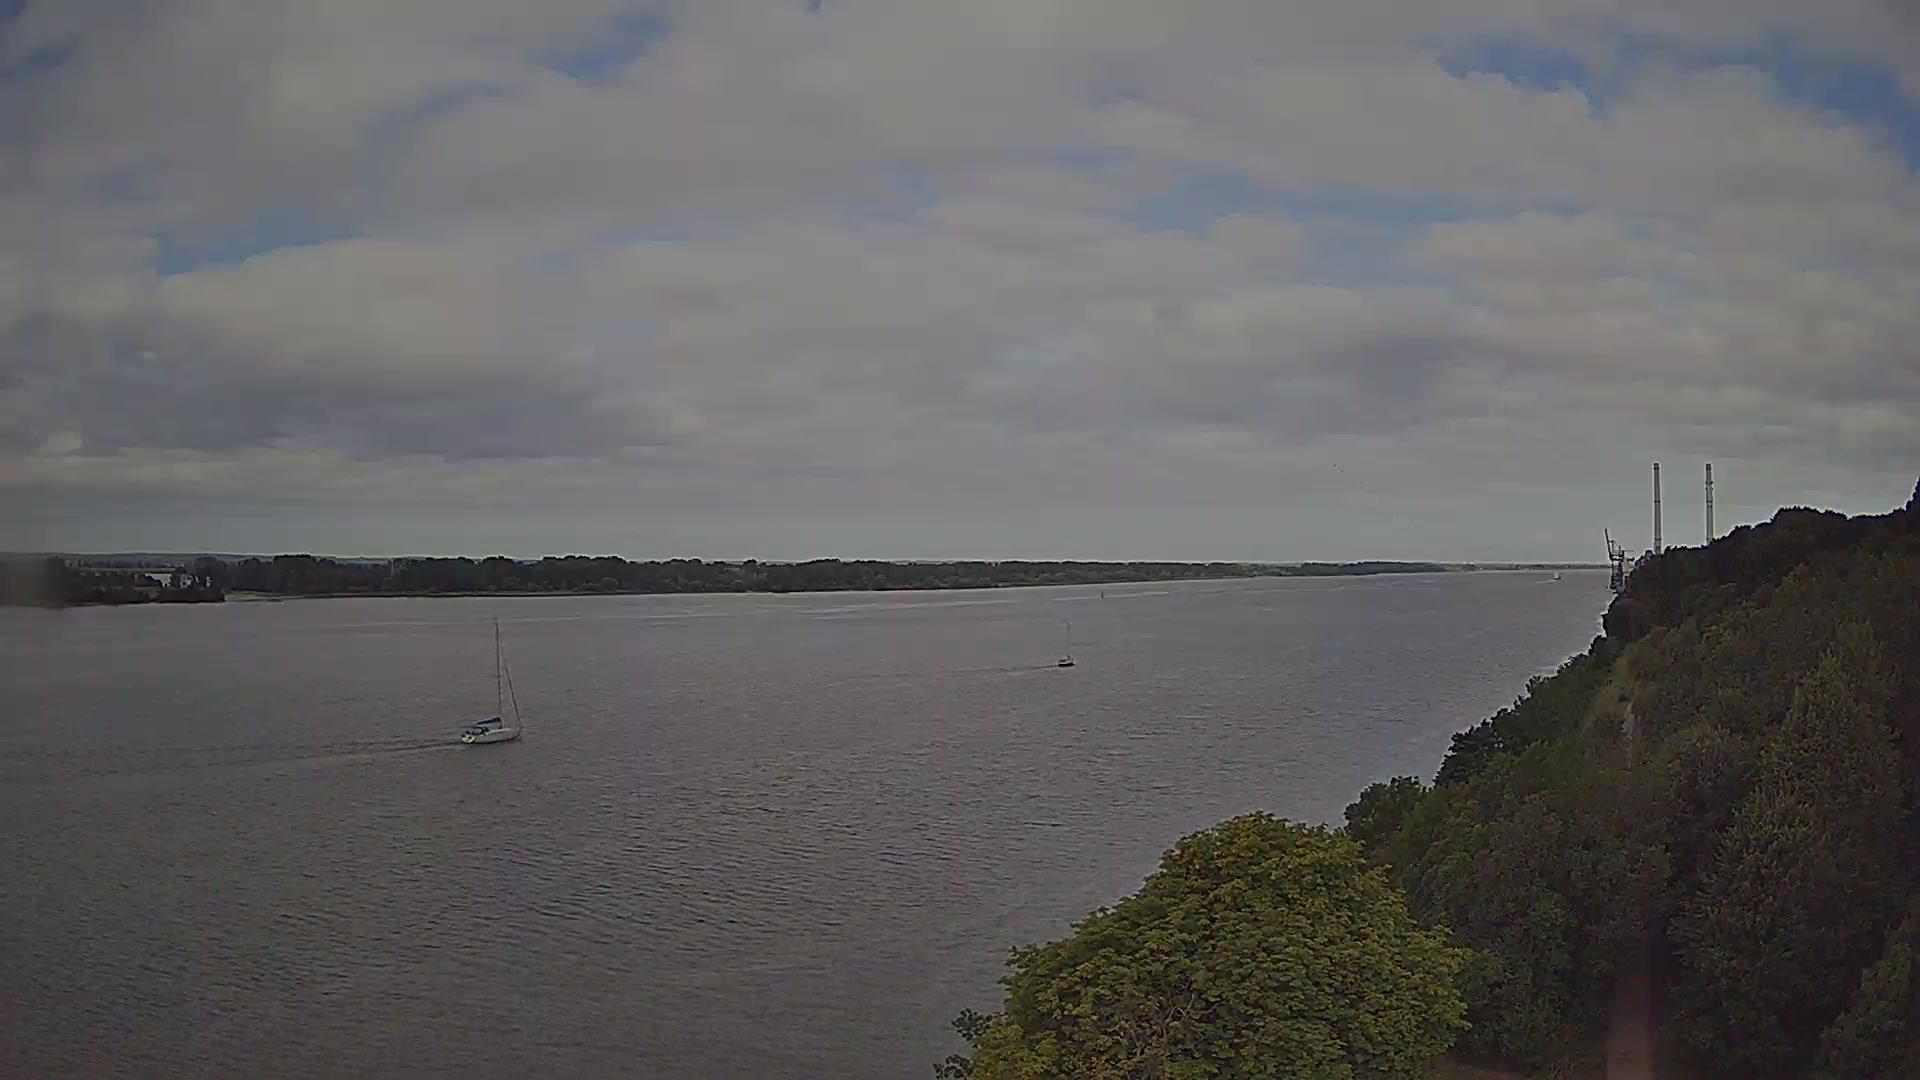sea: (459, 613, 524, 745), (1056, 620, 1077, 667), (1552, 568, 1561, 579)
